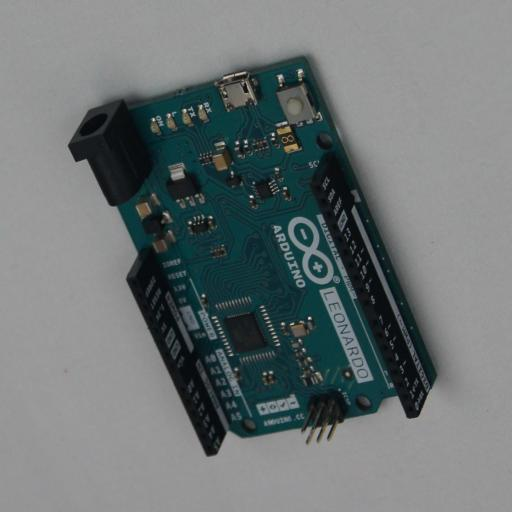Arduino Leonardo: (68, 56, 439, 456)
